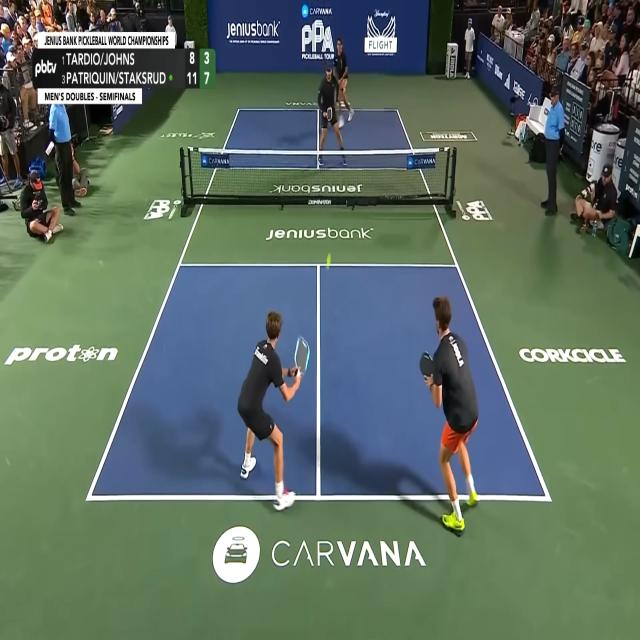ball: (326, 252, 331, 264)
